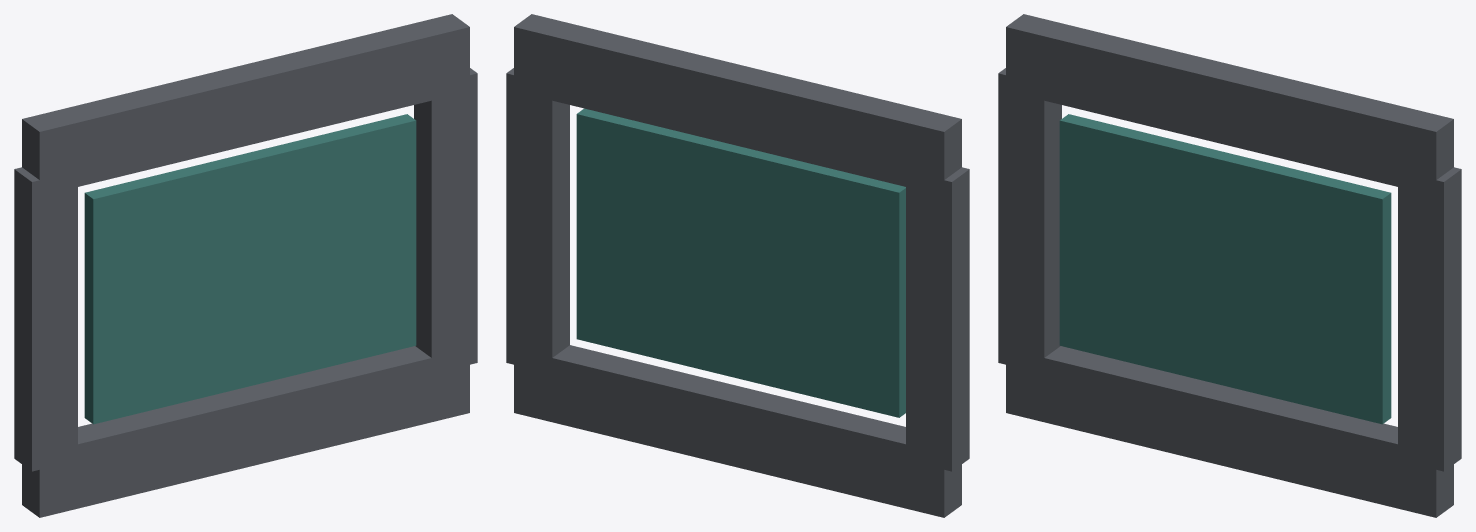
The model's file is gauge-frame.glb.
3 renders of one model, left to right at view 1: azimuth 30°, elevation 25°; view 2: azimuth 150°, elevation 25°; view 3: azimuth 330°, elevation 25°, orthographic.
Visible parts, largest first — view 1: gauge-frame; view 2: gauge-frame; view 3: gauge-frame.
Part boxes in pixels (x1,y1,x2,y2): gauge-frame: (14,14,477,517); gauge-frame: (506,14,969,517); gauge-frame: (998,14,1461,517).
Bounding box in the file's own units: 0.58 × 0.48 × 0.04.
